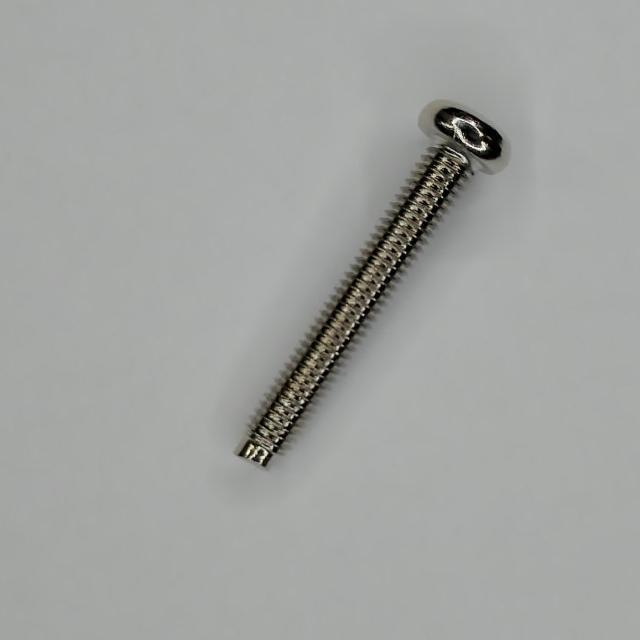Screw: (238, 100, 508, 466)
